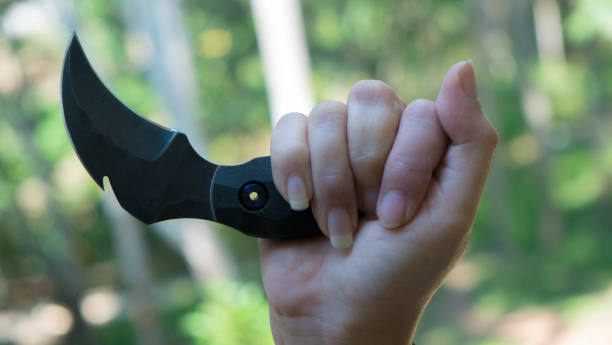knife: (56, 26, 341, 246)
